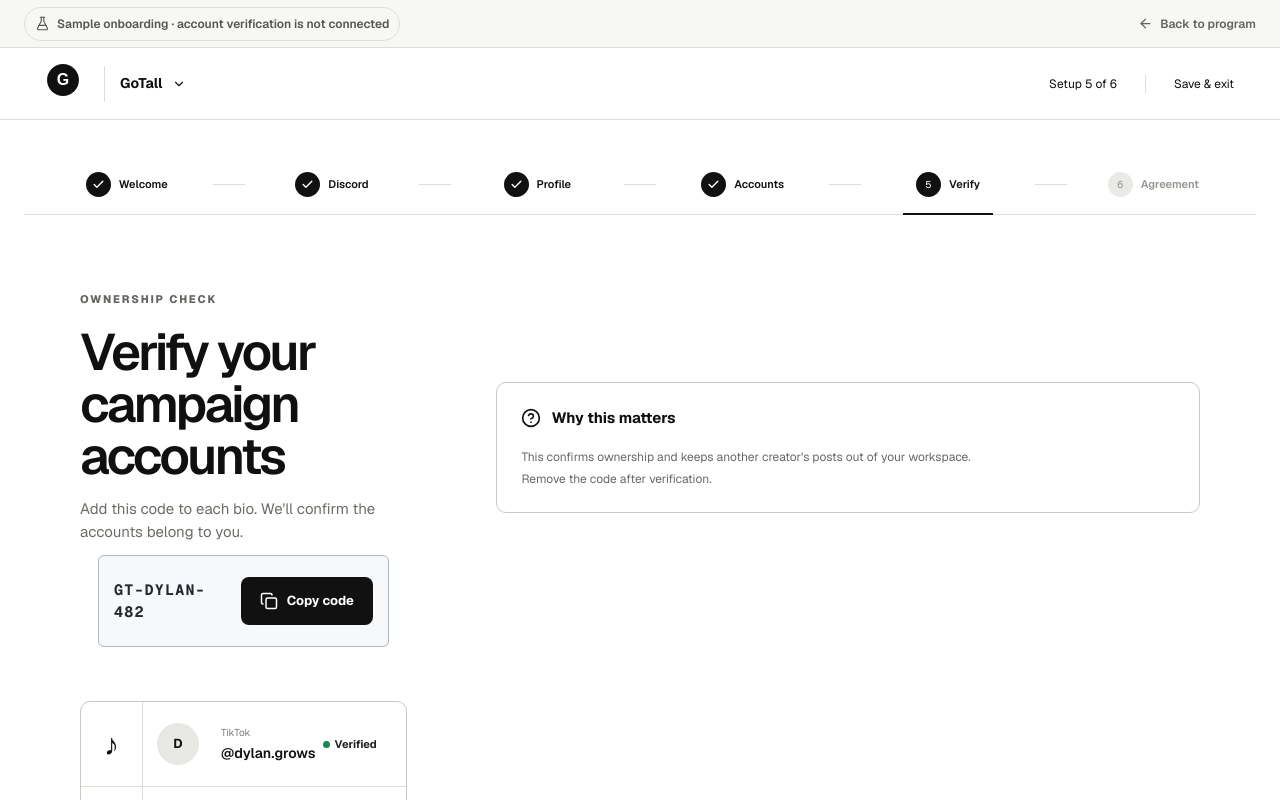
account verification preview › confirms the copy-code interaction
Step 1. Click the button "Copy code" → click(307, 601), box [241,577,373,625]
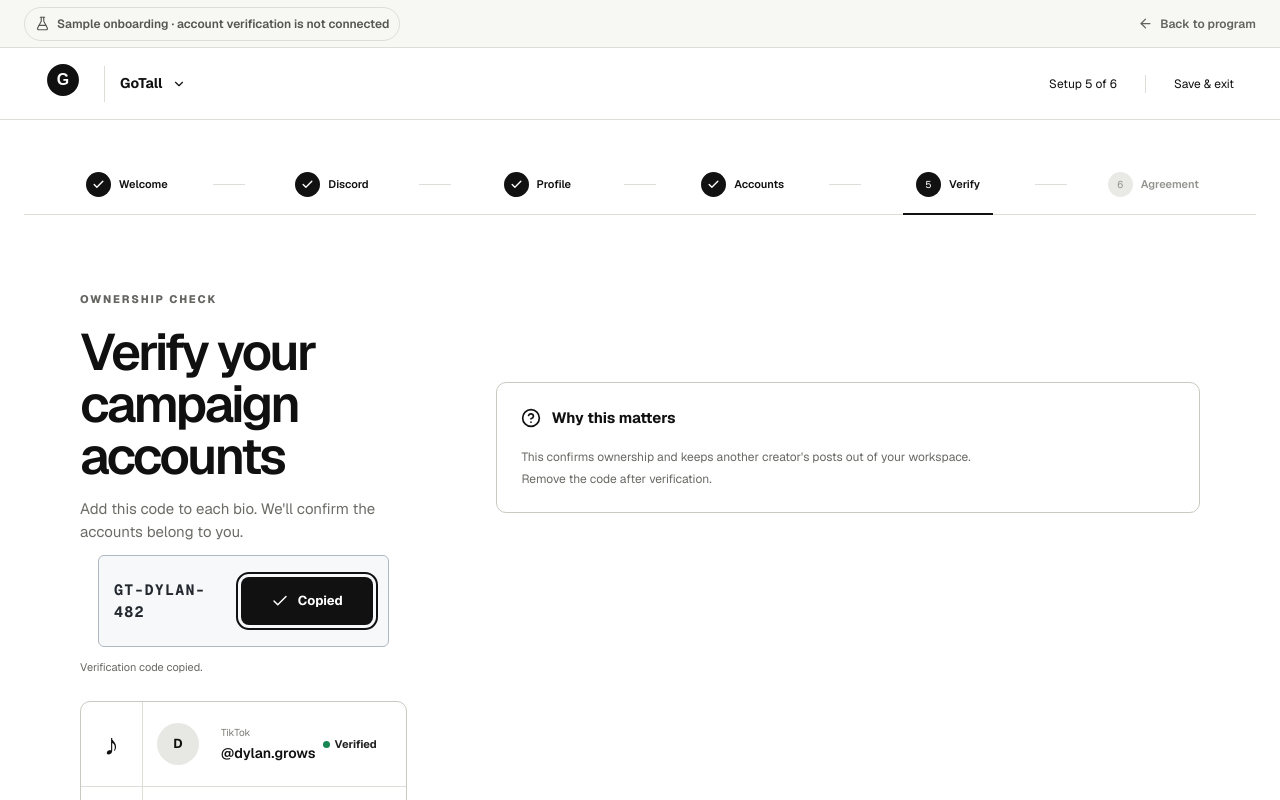
Now the button "Copied" is shown, box [241,577,373,625]
Now the text "Verification code copied." is shown, box [80,660,202,674]
